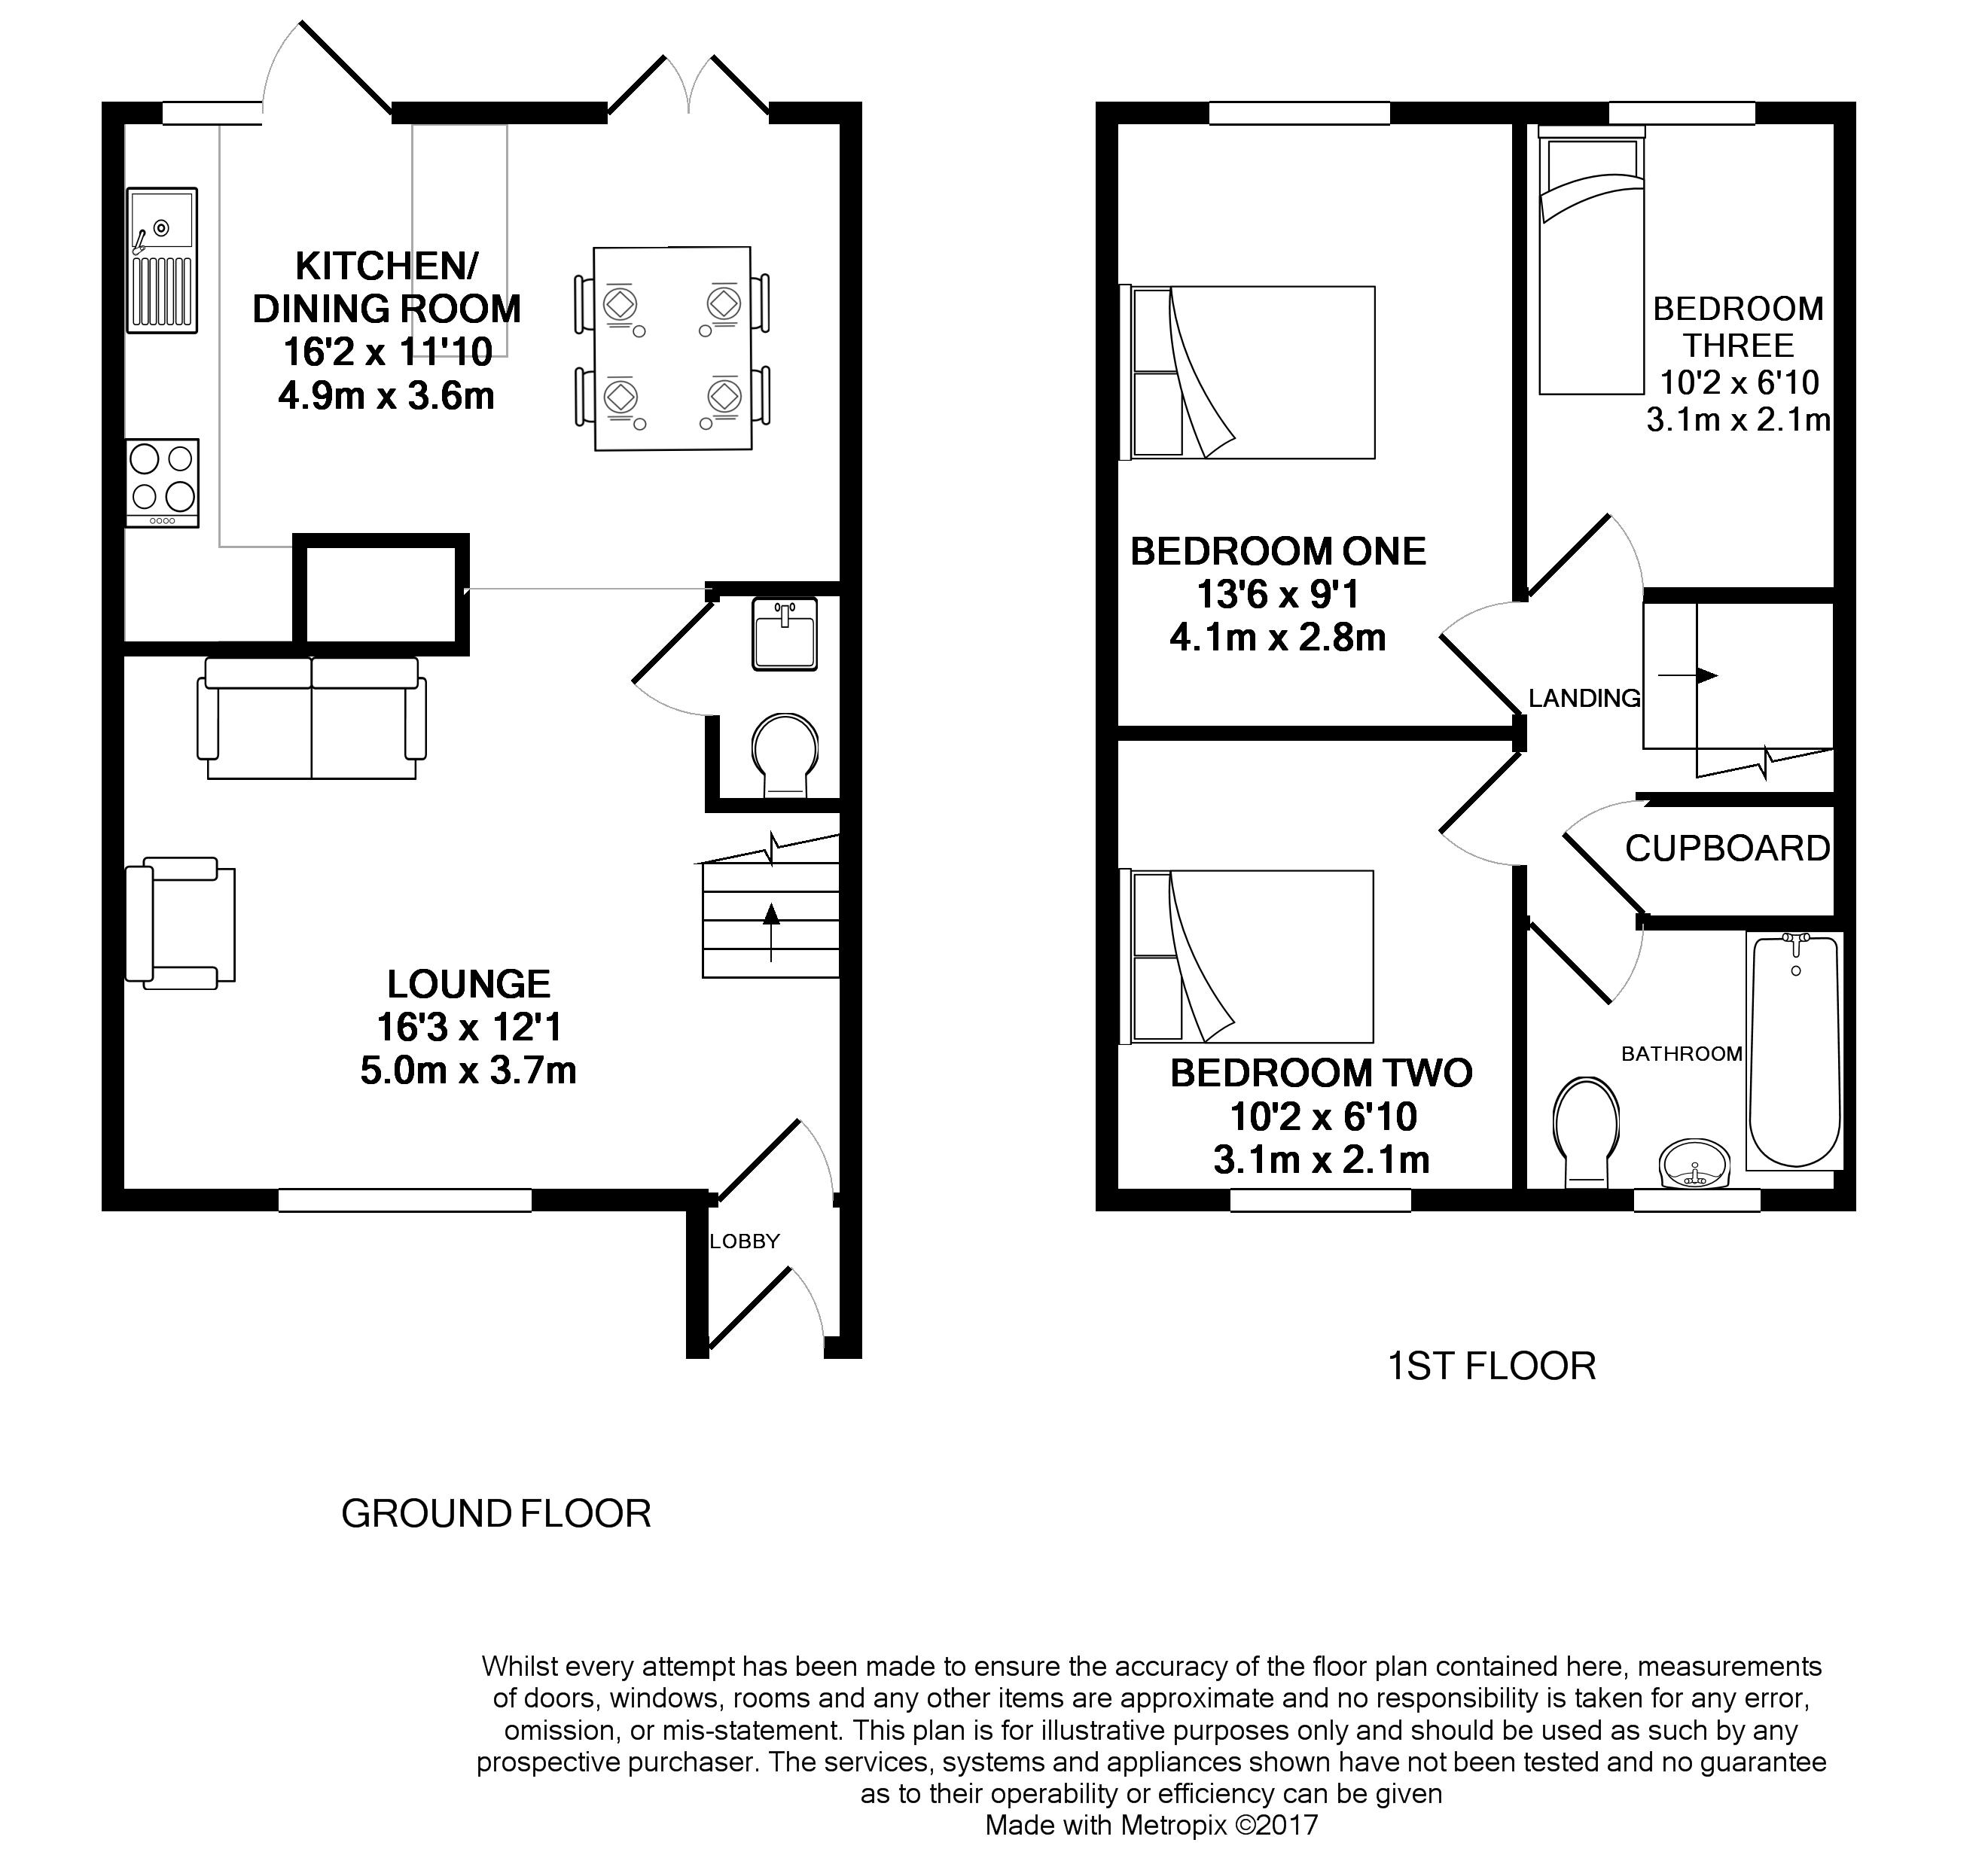wall: (839, 101, 863, 1358), (1833, 101, 1857, 1211), (1095, 99, 1118, 1211), (101, 101, 124, 1211), (99, 1189, 862, 1213), (1511, 101, 1527, 1211), (101, 101, 863, 124), (1095, 101, 1857, 124), (1095, 1189, 1857, 1211), (1095, 726, 1528, 740), (1513, 587, 1856, 604), (101, 641, 472, 656), (1513, 916, 1857, 931), (686, 1335, 863, 1358), (686, 1189, 709, 1361), (705, 581, 721, 813), (1635, 792, 1857, 806), (292, 533, 470, 548), (705, 797, 862, 813), (705, 581, 862, 595), (292, 533, 308, 658), (454, 533, 470, 656)
